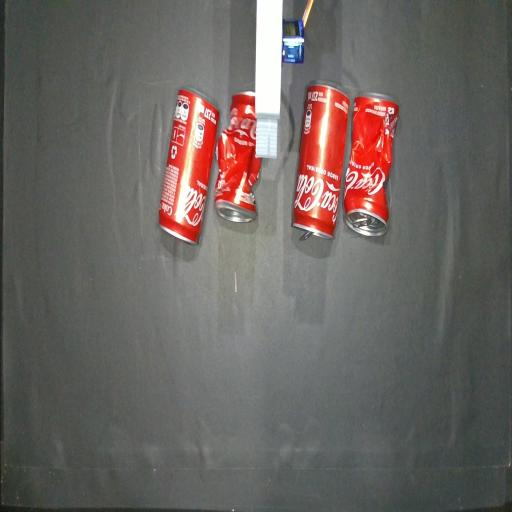lata: (159, 88, 219, 244), (292, 82, 349, 239)
lata_defectuoso: (343, 94, 399, 236), (215, 92, 261, 221)
